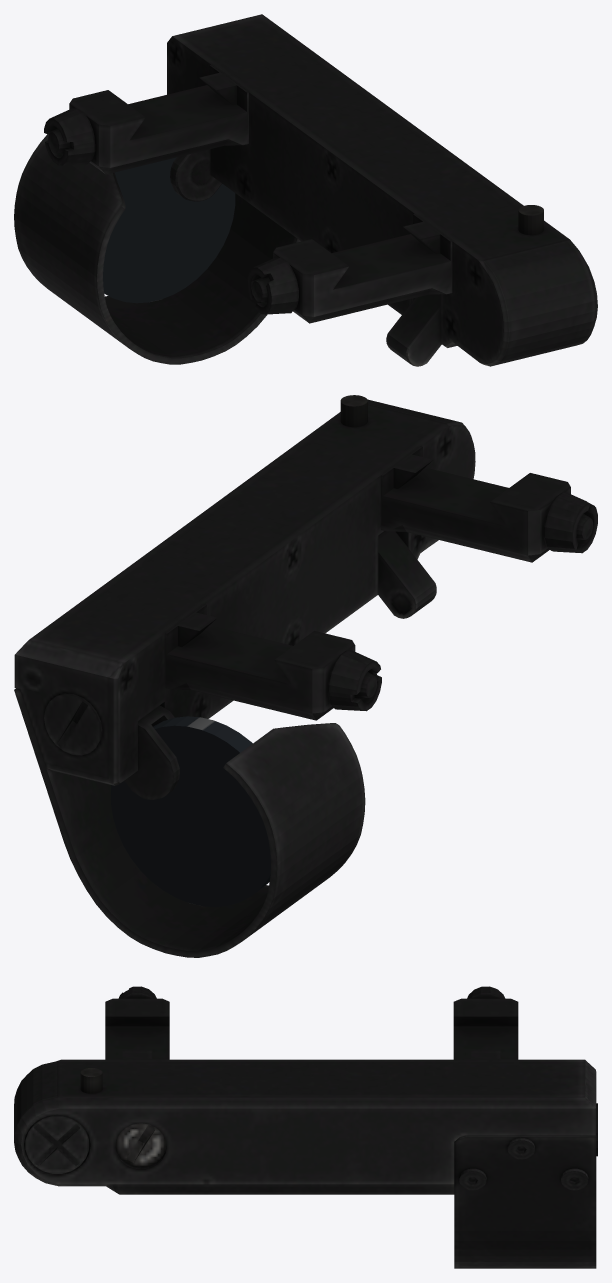
3 views of the same model, one above another, from view 1: azimuth 30°, elevation 25°; view 2: azimuth 150°, elevation 25°; view 3: azimuth 270°, elevation 25° (orthographic). The views are drawn at different scales.
Parts seen in each view (by area): view 1: TW_570fd79bd2720bc7458b4583_PZ_Import; view 2: TW_570fd79bd2720bc7458b4583_PZ_Import; view 3: TW_570fd79bd2720bc7458b4583_PZ_Import.
Part boxes in pixels (x1,y1,x2,y2): TW_570fd79bd2720bc7458b4583_PZ_Import: (14, 14, 597, 366); TW_570fd79bd2720bc7458b4583_PZ_Import: (14, 395, 597, 957); TW_570fd79bd2720bc7458b4583_PZ_Import: (14, 986, 597, 1268).
Size of the model in its own units: 0.036 by 0.0767 by 0.0343.
1 material, 1 textured.
